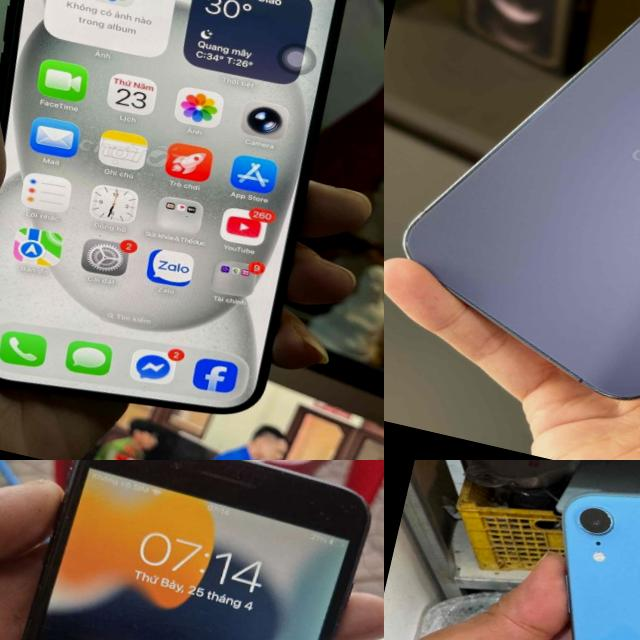scratch: (278, 478, 367, 536), (590, 496, 628, 532), (65, 460, 96, 469)
